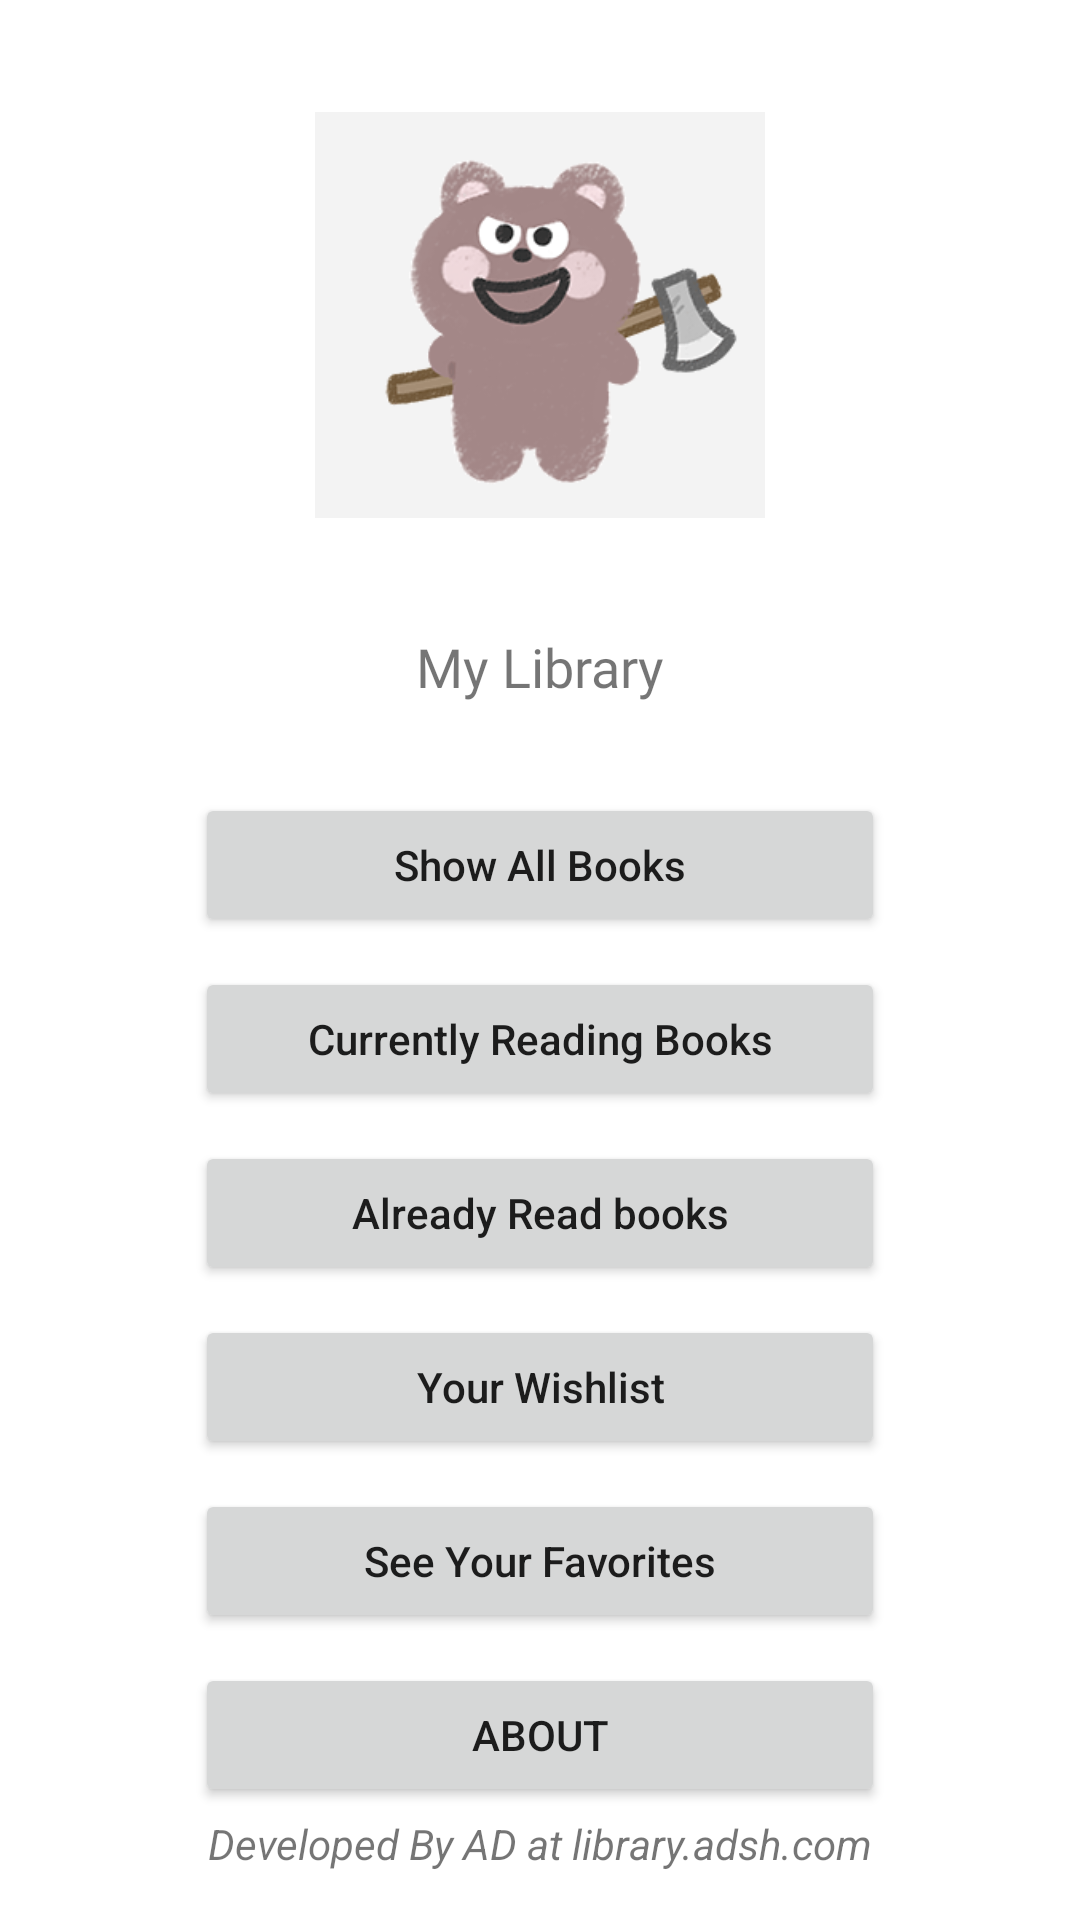

Icons on this 1080x1920 Android screen, each with its box as (x1, y1, x2, y2):
xiaoxiong: (385, 160, 737, 483)
